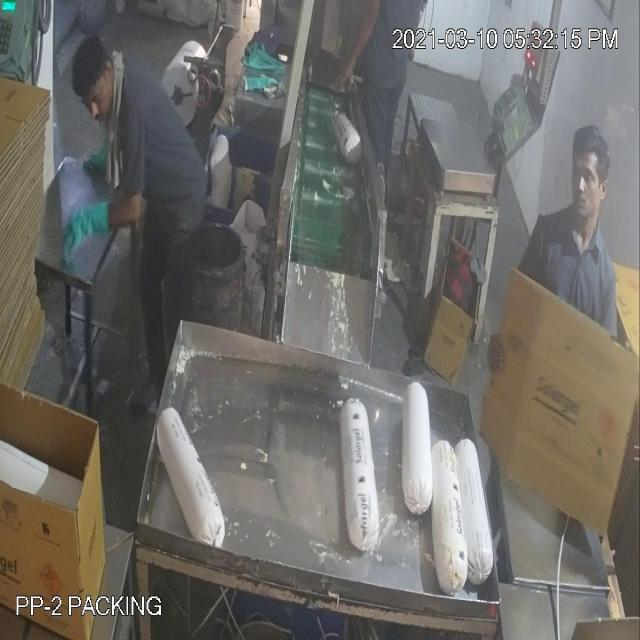No_Gloves: (44, 48, 358, 222)
